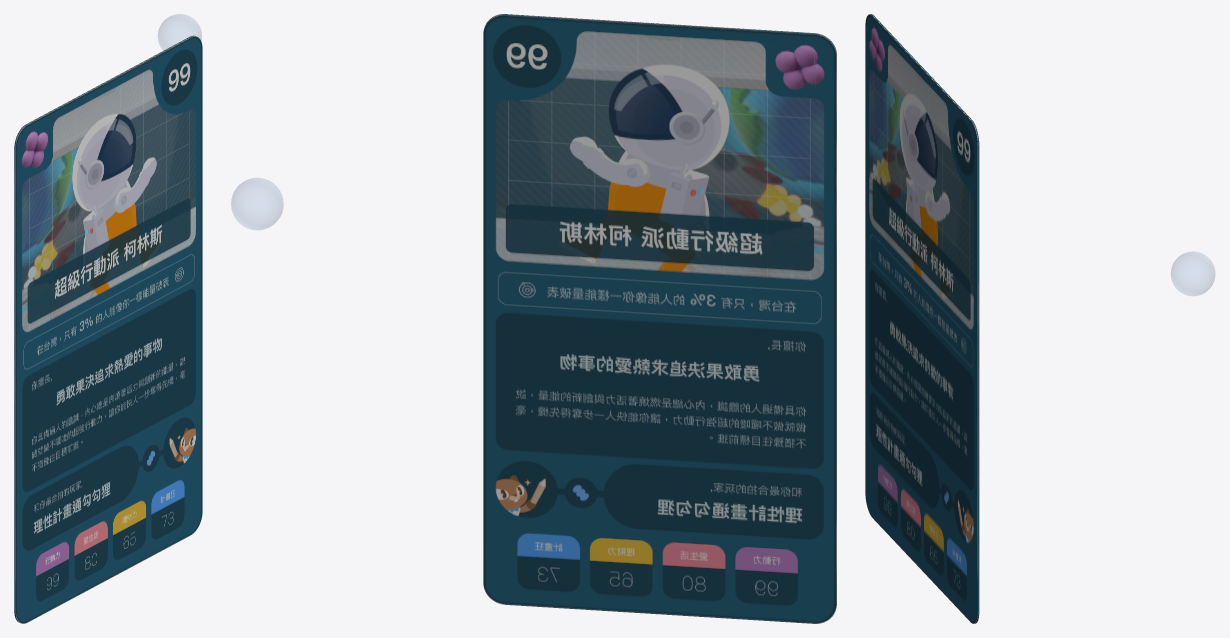
The model's file is 0817_Bake_Test_2.glb.
3 renders of one model, left to right at view 1: azimuth 30°, elevation 25°; view 2: azimuth 150°, elevation 25°; view 3: azimuth 270°, elevation 25°, orthographic. The views are drawn at different scales.
Parts seen in each view (by area): view 1: Polygon, Sphere.3; view 2: Polygon, Sphere.3; view 3: Polygon, Sphere.3.
Boxes of the visible parts, <box> form: Polygon: <box>14,35,202,623</box>; Sphere.3: <box>158,14,201,50</box>; Polygon: <box>483,14,836,623</box>; Sphere.3: <box>231,178,283,229</box>; Polygon: <box>865,14,979,623</box>; Sphere.3: <box>1171,251,1215,295</box>.
Size of what is drawn, in the model's own units: 1.4 by 1.92 by 1.21.
2 materials, 1 textured.
